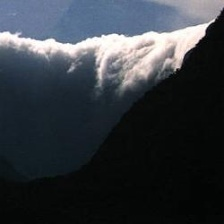neutral: (5, 3, 222, 222)
